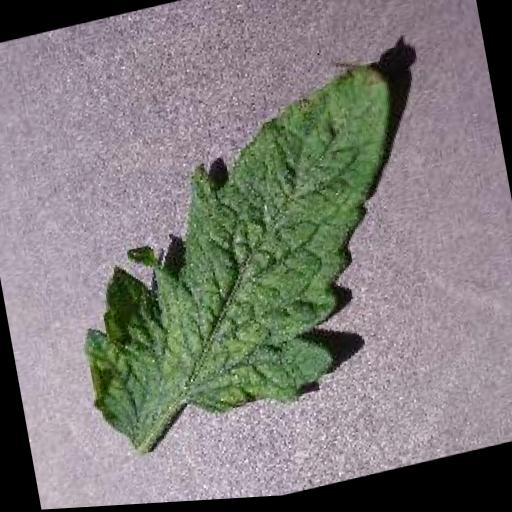Mosaic Virus: (42, 55, 440, 456)
